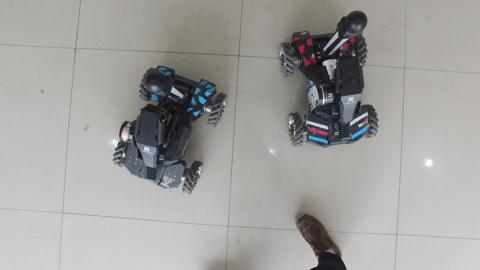chariot: (109, 57, 234, 198), (280, 5, 383, 152)
